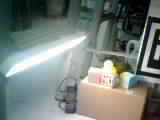duck: (92, 55, 126, 81)
